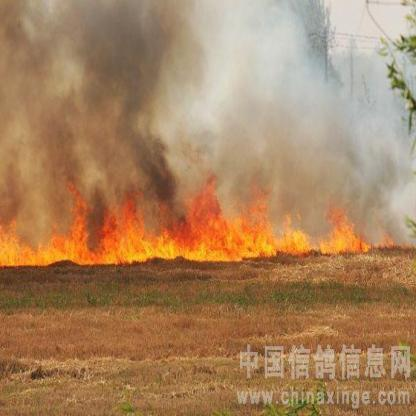fire: (1, 170, 405, 267)
smoke: (1, 4, 411, 187)
